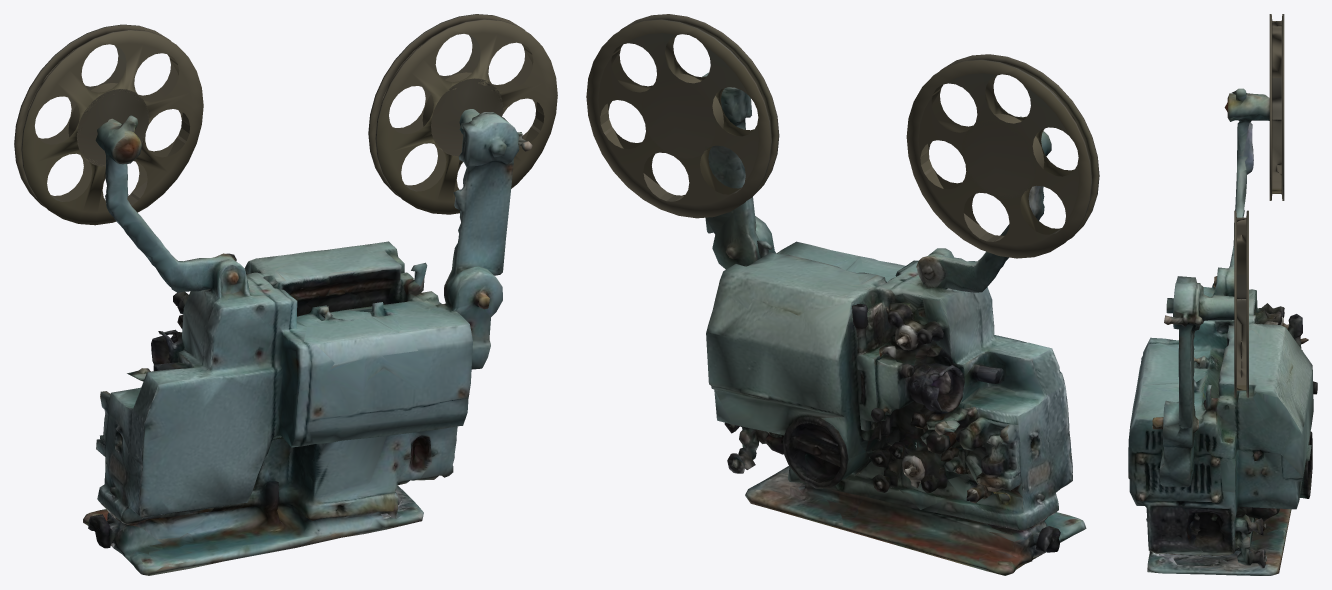
Rendered from kino_projektorius_ukraina_5.glb.
3 views of the same model, side by side, from view 1: azimuth 30°, elevation 25°; view 2: azimuth 150°, elevation 25°; view 3: azimuth 270°, elevation 25° (orthographic). The views are drawn at different scales.
Visible parts, largest first — view 1: Old_projector002; view 2: Old_projector002; view 3: Old_projector002.
Part boxes in pixels (x1,y1,x2,y2): Old_projector002: [14, 14, 557, 575]; Old_projector002: [586, 14, 1099, 575]; Old_projector002: [1128, 14, 1317, 575].
Size of the model in its own units: 3.26 by 3.01 by 1.16.
Materials: 1 (1 with a texture image).
